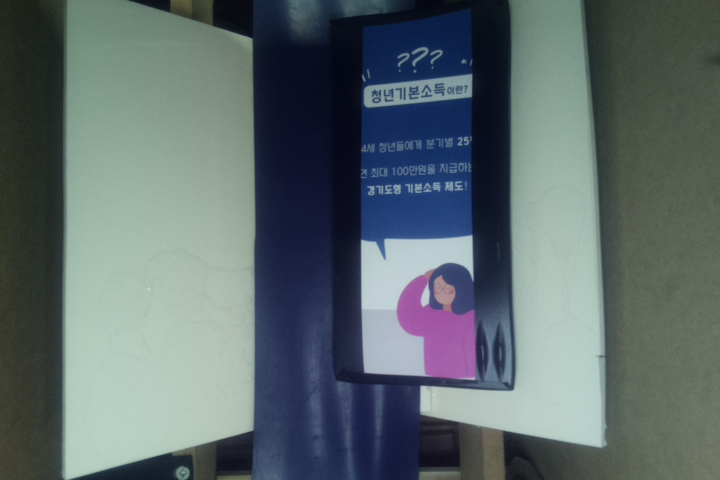book: (335, 1, 518, 389)
